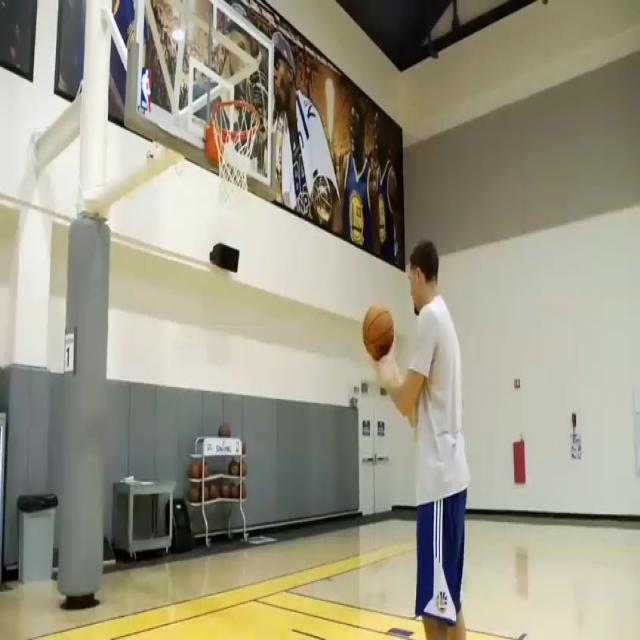ball: (363, 308, 394, 361)
